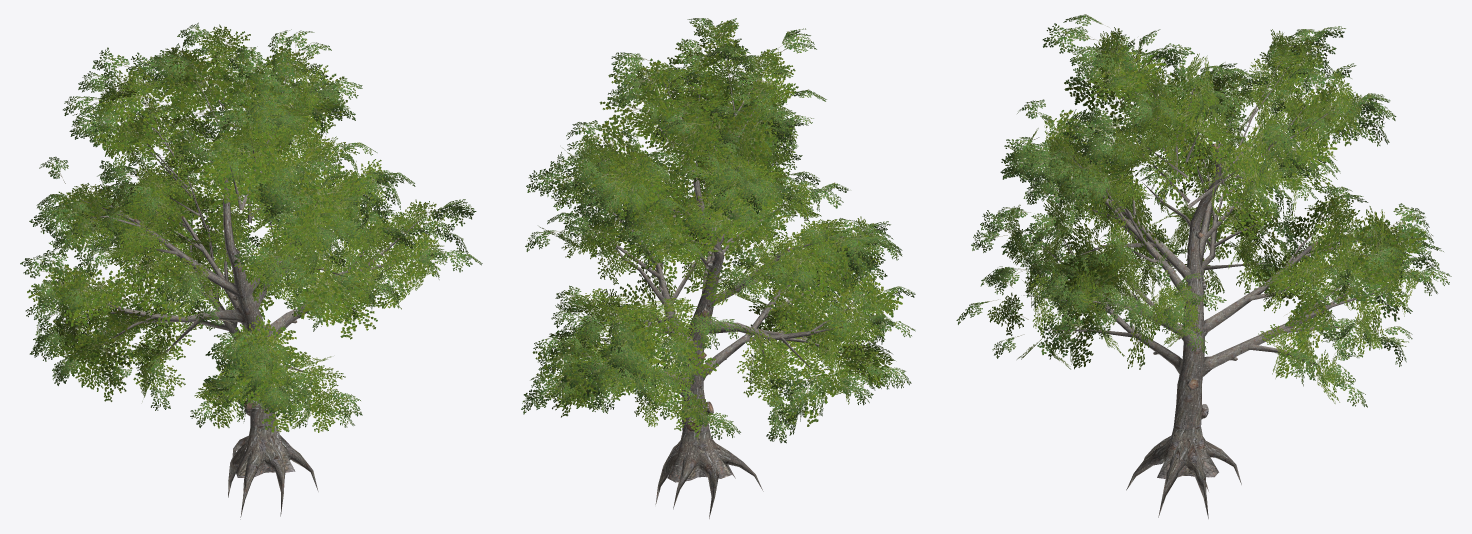
The model's file is tree.glb.
The picture shows the model from 3 angles, left to right: view 1: azimuth 30°, elevation 25°; view 2: azimuth 150°, elevation 25°; view 3: azimuth 270°, elevation 25°; orthographic projection. The views are drawn at different scales.
Parts seen in each view (by area): view 1: tree; view 2: tree; view 3: tree.
Part boxes in pixels (x1=…): tree: x1=20, y1=22, x2=482, y2=519; tree: x1=521, y1=18, x2=915, y2=518; tree: x1=956, y1=14, x2=1451, y2=518.
Size of the model in its own units: 19.97 by 21.14 by 20.08.
Materials: 2 (2 with a texture image).
